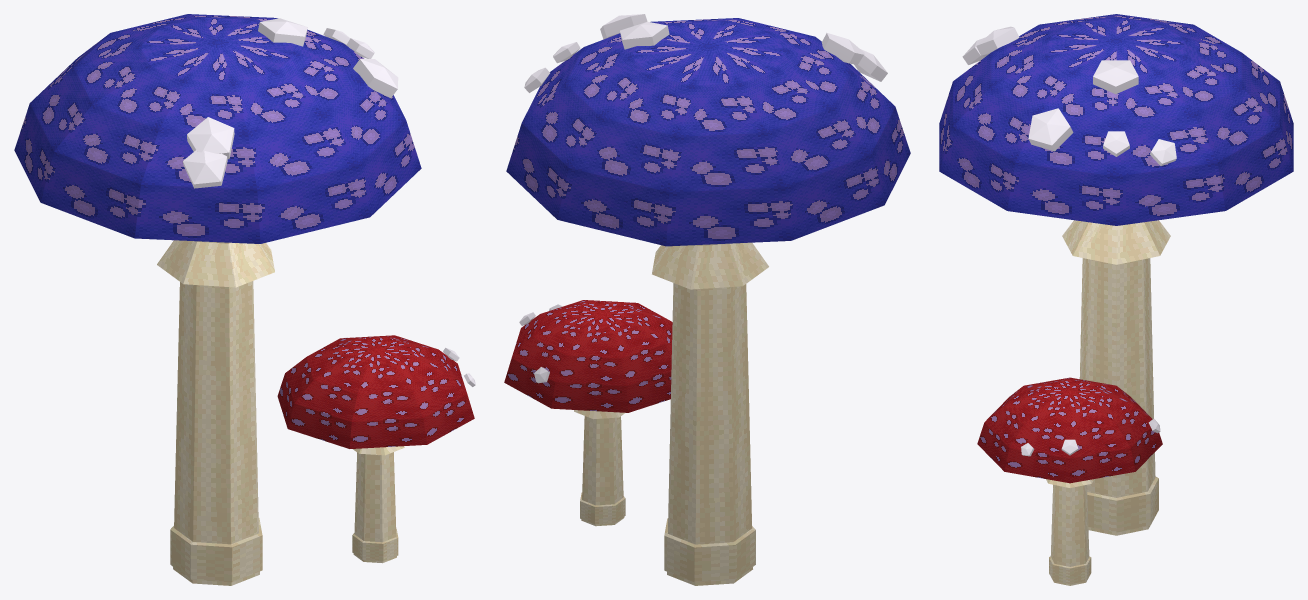
The model's file is toadstool_purple.glb.
The picture shows the model from 3 angles, left to right: view 1: azimuth 30°, elevation 25°; view 2: azimuth 150°, elevation 25°; view 3: azimuth 270°, elevation 25°; orthographic projection. The views are drawn at different scales.
Visible parts, largest first — view 1: toadstool_purple; view 2: toadstool_purple; view 3: toadstool_purple.
Boxes of the visible parts, <box> form: toadstool_purple: <box>14,14,475,585</box>; toadstool_purple: <box>504,14,910,585</box>; toadstool_purple: <box>939,14,1293,585</box>.
Size of the model in its own units: 2.7 by 3.52 by 2.29.
Materials: 5 (4 with a texture image).
